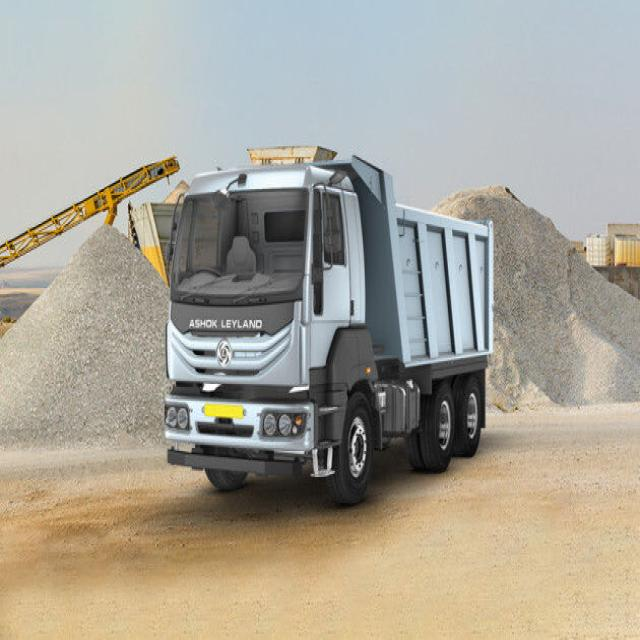dump_truck: (155, 102, 500, 507)
